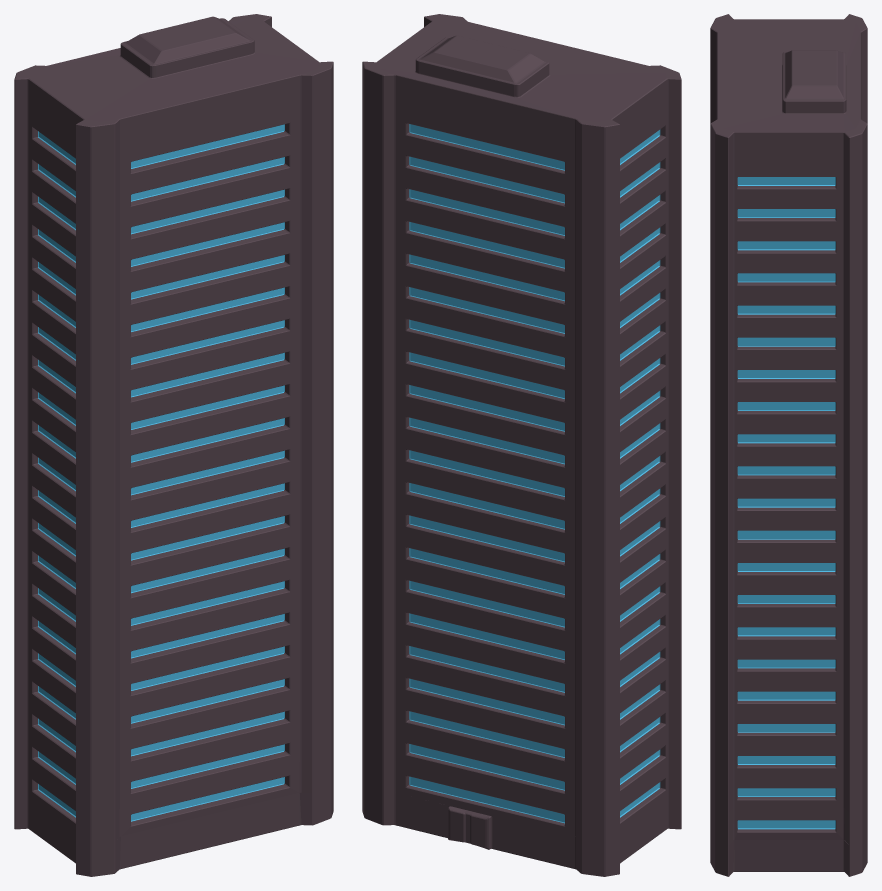
Rendered from buildings3.fbx.
The picture shows the model from 3 angles, left to right: view 1: azimuth 30°, elevation 25°; view 2: azimuth 150°, elevation 25°; view 3: azimuth 270°, elevation 25°; orthographic projection.
Parts seen in each view (by area): view 1: 2.001; view 2: 2.001; view 3: 2.001.
Boxes of the visible parts, <box> form: 2.001: <box>14,14,333,876</box>; 2.001: <box>362,14,681,876</box>; 2.001: <box>710,14,867,876</box>.
Bounding box in the file's own units: 3505 × 10027 × 1879.
